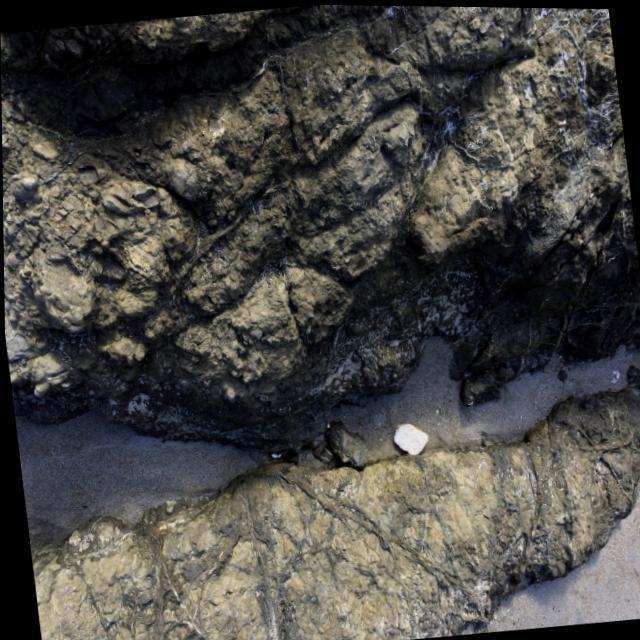Plastic: (386, 414, 431, 461)
